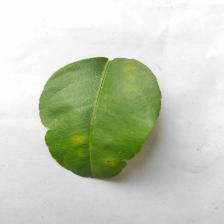canker: (57, 121, 121, 174)
